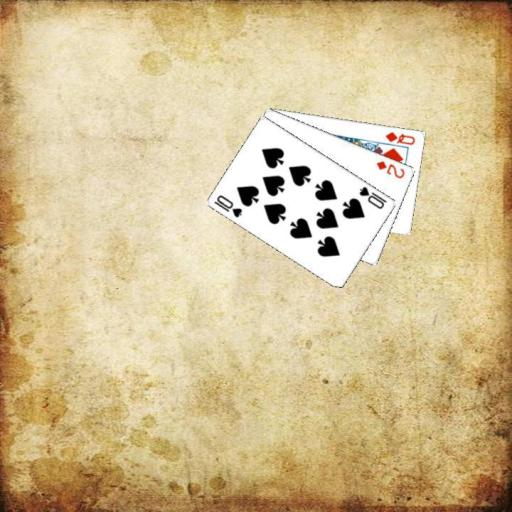10S: (211, 191, 244, 219), (357, 184, 389, 211)
2D: (373, 158, 407, 180)
QD: (383, 128, 417, 146)
